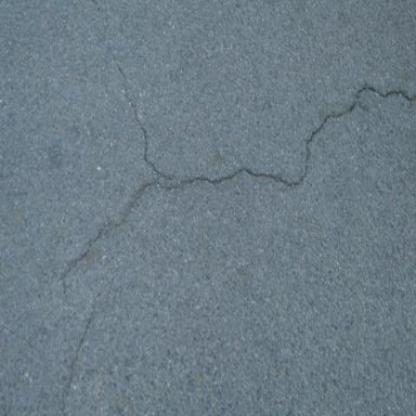Cracks: (67, 70, 415, 281)
